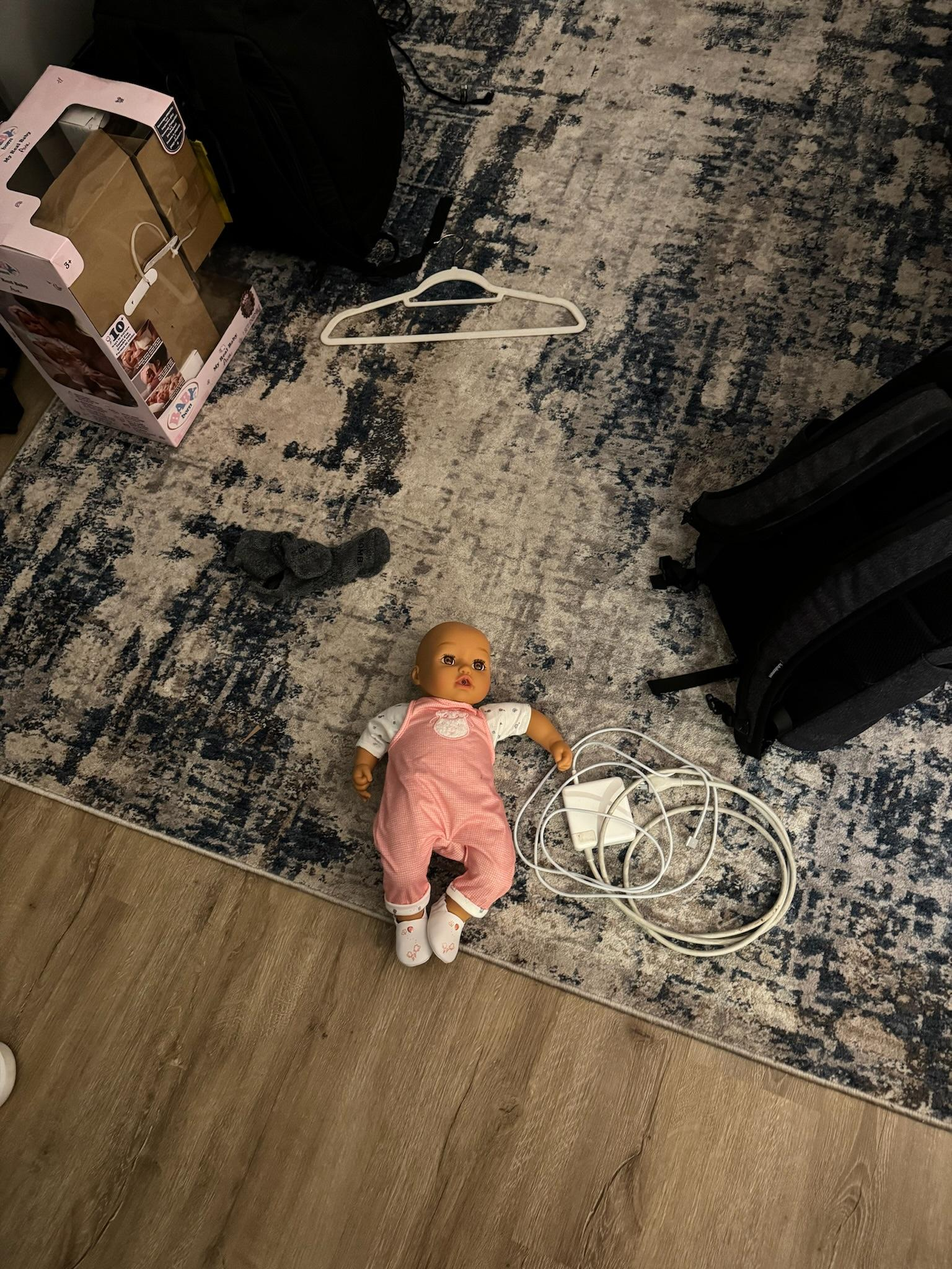baby: (343, 613, 533, 985)
